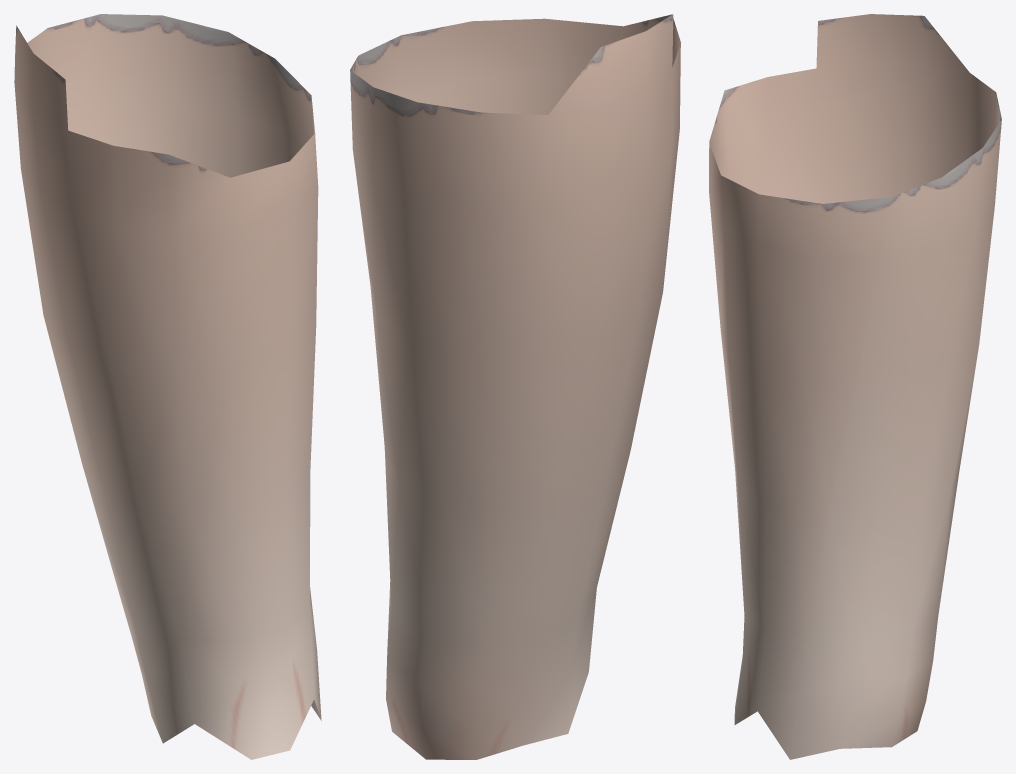
The model's file is muslo_izq_yae.obj.
The picture shows the model from 3 angles, left to right: view 1: azimuth 30°, elevation 25°; view 2: azimuth 150°, elevation 25°; view 3: azimuth 270°, elevation 25°; orthographic projection. The views are drawn at different scales.
Visible parts, largest first — view 1: 左足D, 肌.009_Material.002, 肌.009_Материал.020, 左ひざD; view 2: 左足D, 肌.009_Material.002; view 3: 左足D, 肌.009_Material.002.
Part boxes in pixels (x1,y1,x2,y2): 左足D: (14,18,321,759); 肌.009_Material.002: (16,14,313,169); 肌.009_Материал.020: (242,678,285,759); 左ひざD: (251,678,290,759); 左足D: (350,18,680,759); 肌.009_Material.002: (350,14,674,115); 左足D: (709,14,1001,759); 肌.009_Material.002: (715,15,1001,211).
Size of the model in its own units: 0.0496 by 0.1292 by 0.0535.
